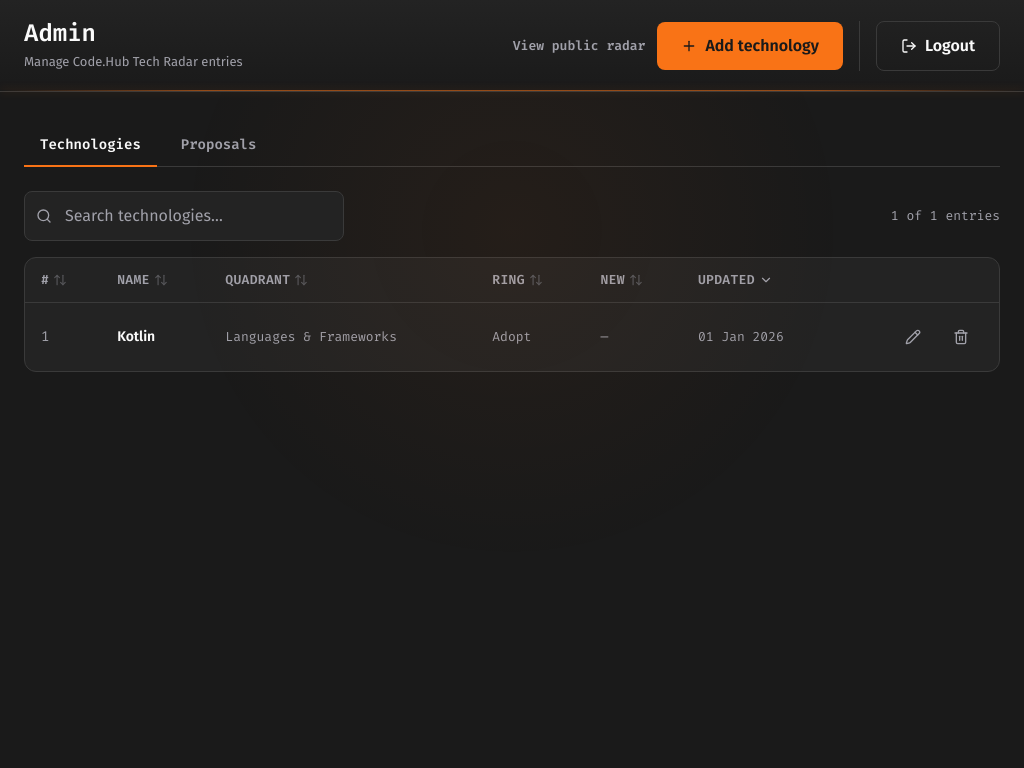
Test: AdminPage entry management › logs out and shows a session-expired toast when a mutation gets a 401
The image size is (1024, 768).
Expected: the text "Kotlin" is shown, left=101, top=302, right=209, bottom=371
What coordinates should you click on to do the following:
click the button named "Delete Kotlin"
I would click on:
 (961, 337)
Its box is left=939, top=315, right=983, bottom=359.
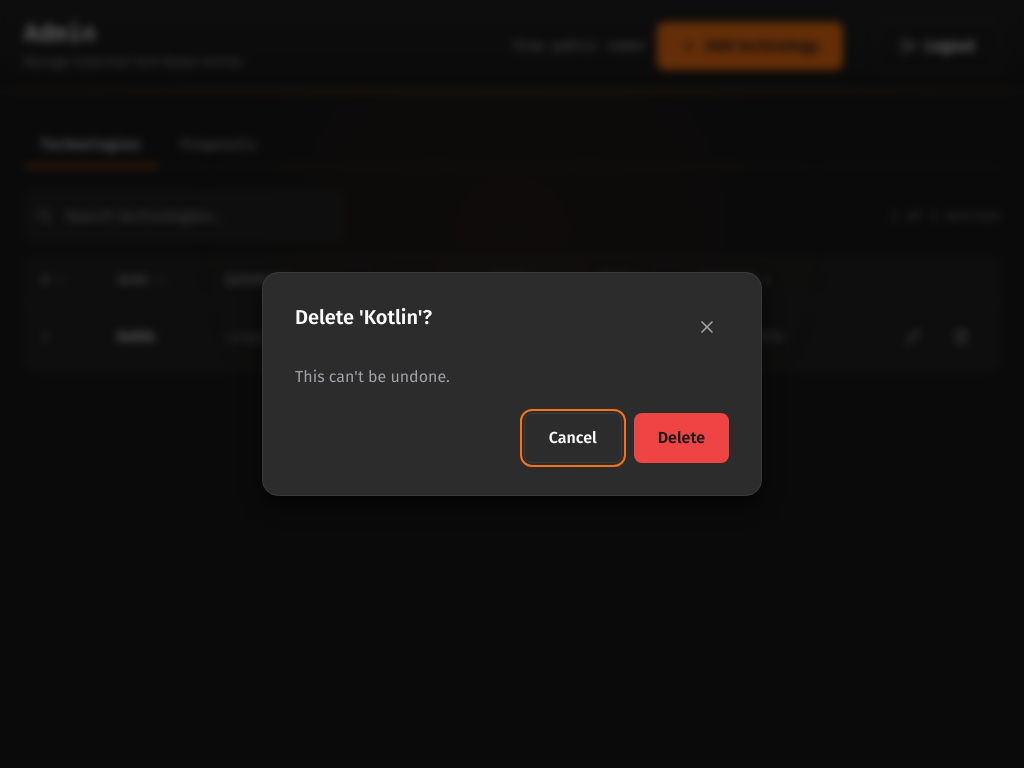
What coordinates should you click on to do the following:
click the button "Delete"
I would click on:
 (681, 438)
Its box is left=634, top=413, right=729, bottom=463.
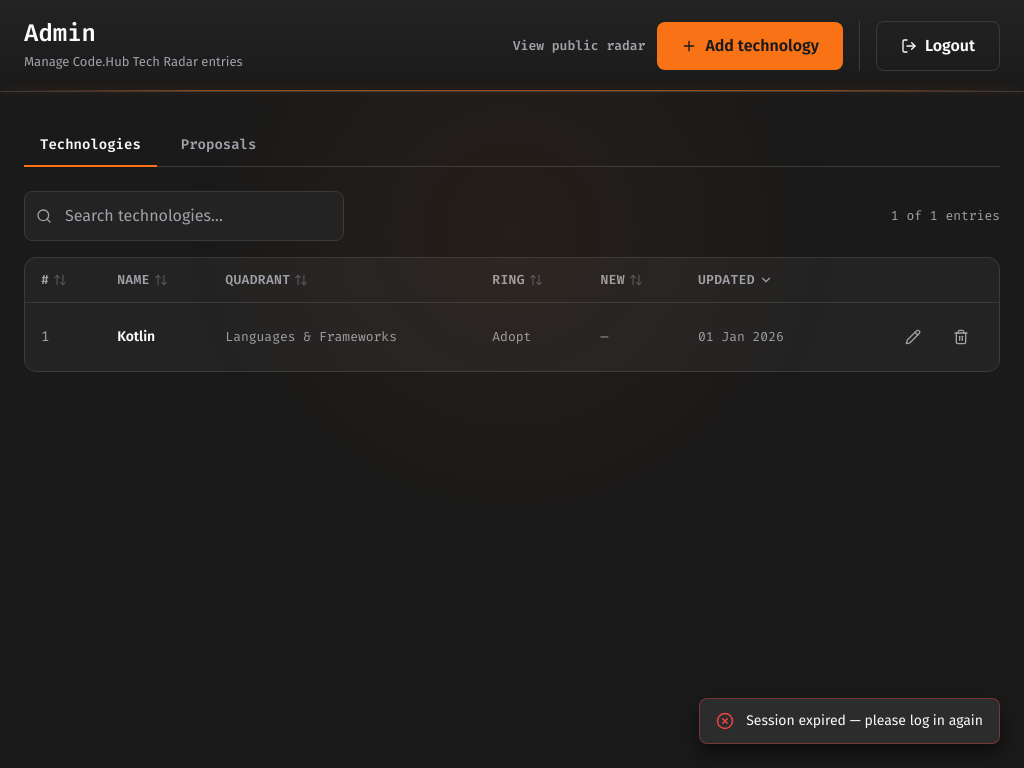
Result: the message shows "Session expired" at left=746, top=712, right=983, bottom=729
